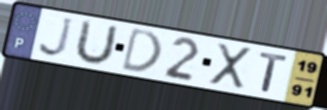2: (163, 36, 203, 84)
D: (118, 25, 164, 74)
J: (36, 16, 76, 60)
T: (257, 51, 291, 95)
U: (72, 18, 121, 67)
X: (208, 42, 254, 91)
